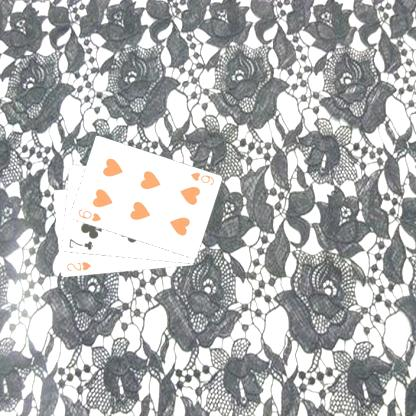2H: (64, 259, 92, 273)
6H: (75, 207, 102, 224), (188, 170, 216, 186)
7C: (66, 236, 95, 252)
